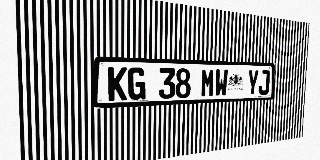3: (159, 68, 175, 99)
8: (175, 68, 191, 98)
G: (128, 67, 146, 100)
J: (258, 70, 270, 95)
K: (108, 67, 127, 101)
M: (201, 69, 215, 97)
W: (214, 69, 228, 97)
Y: (247, 70, 259, 95)
